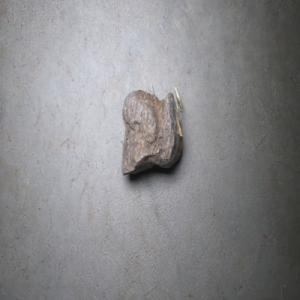Rock: (120, 86, 183, 175)
